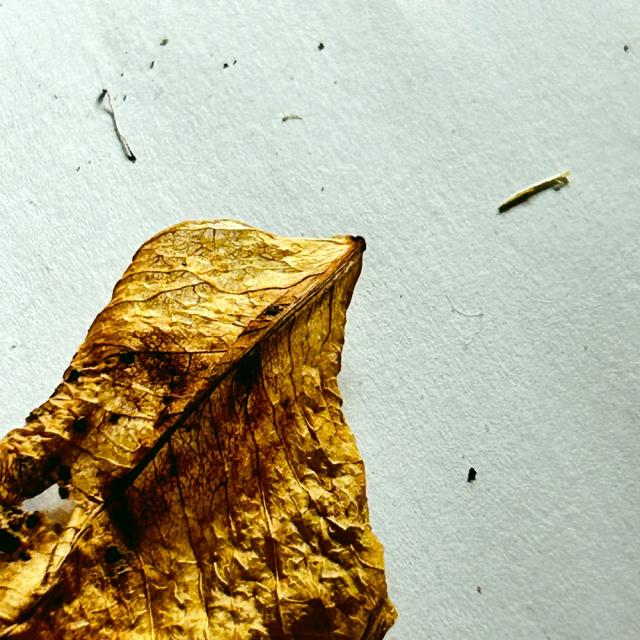DryLeaf_Lemon: (0, 220, 396, 639)
